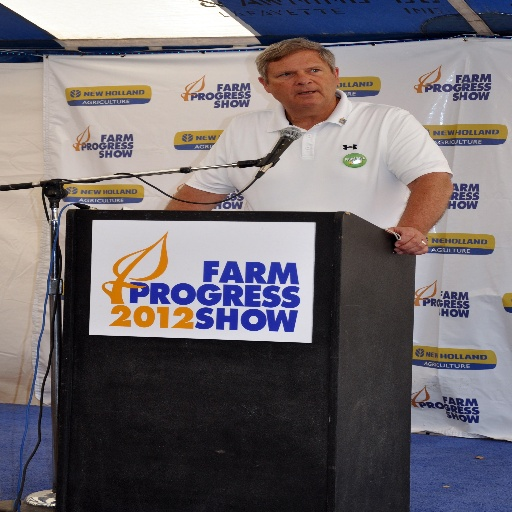hand: (379, 217, 442, 257)
